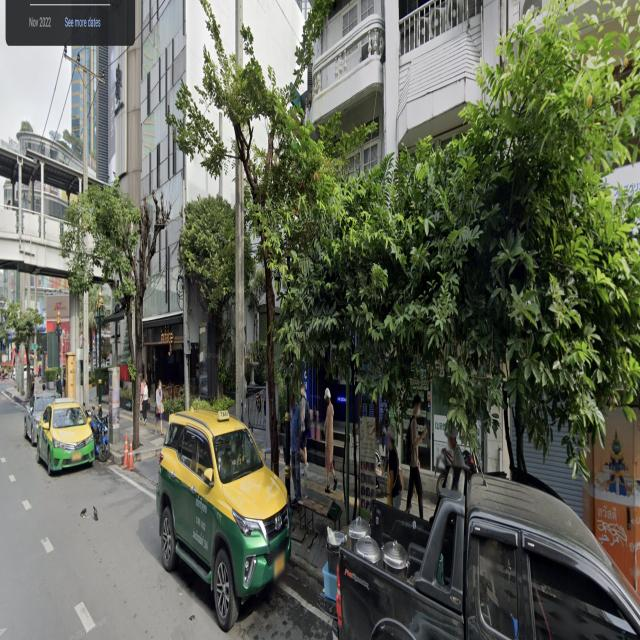tree: (409, 60, 640, 532), (296, 137, 464, 576), (186, 50, 340, 505), (70, 169, 178, 460), (181, 180, 261, 408), (8, 296, 42, 422)
